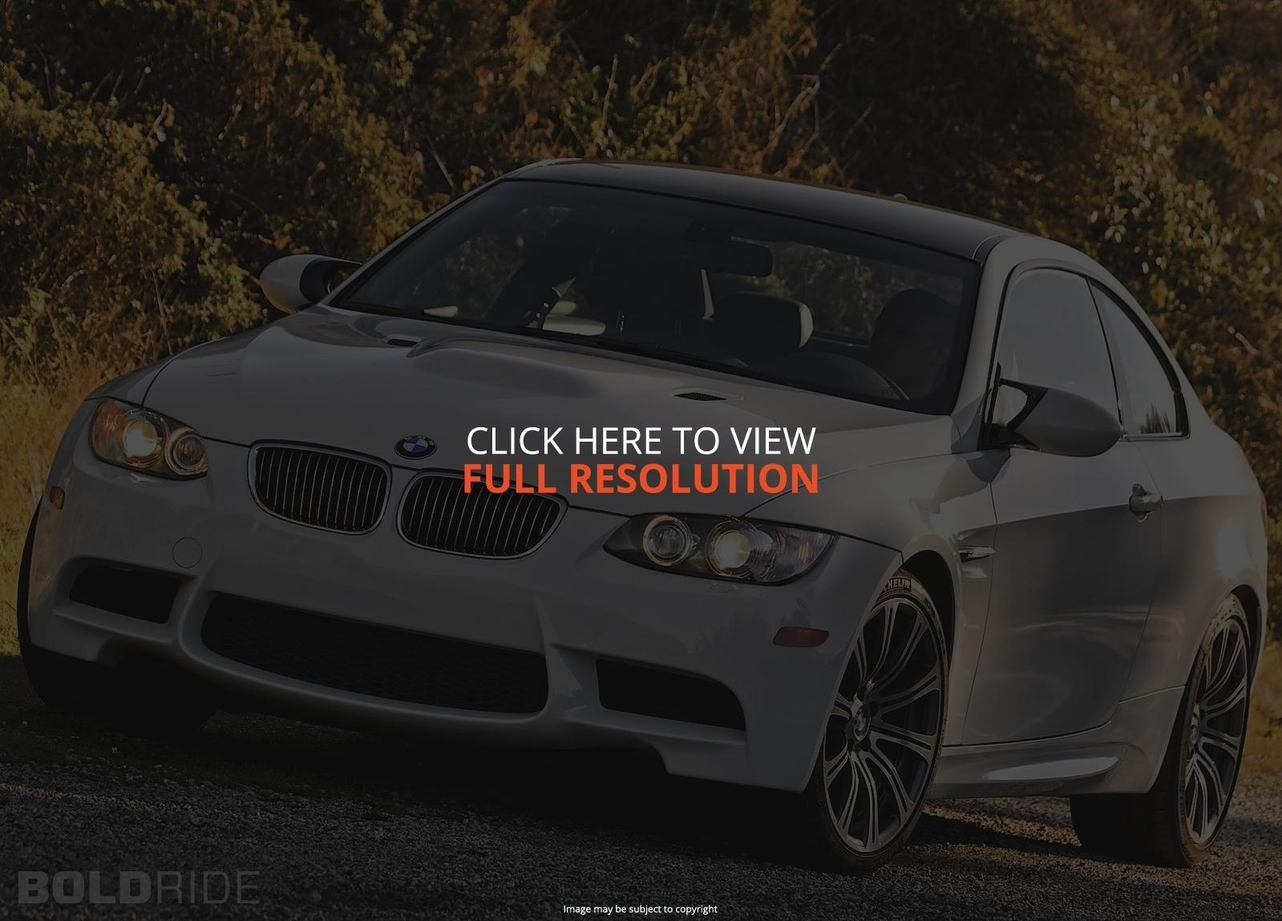Car: (17, 109, 1281, 871)
